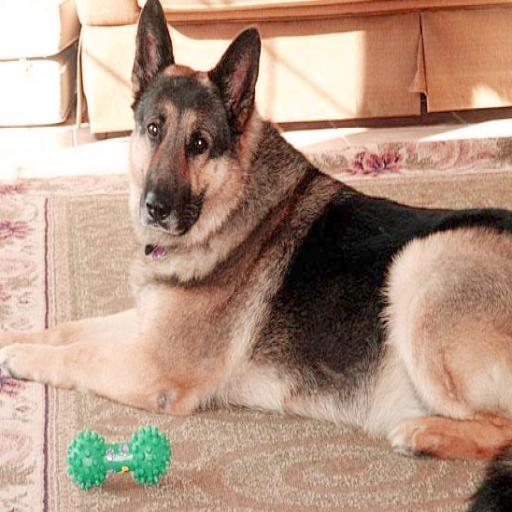dog_face: (132, 7, 253, 232)
